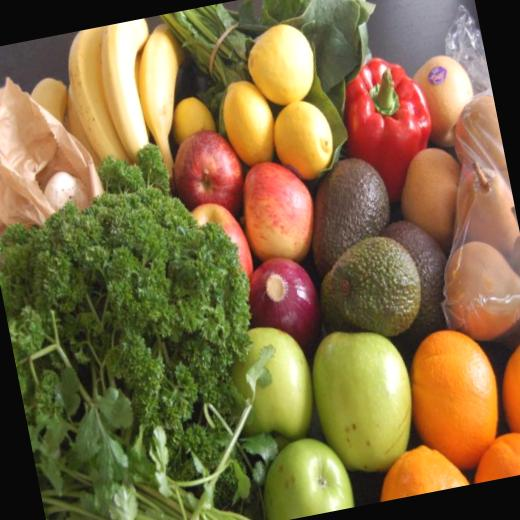Apple: (308, 313, 432, 484), (223, 316, 324, 446), (230, 152, 322, 272), (253, 430, 356, 520), (165, 124, 253, 228), (190, 198, 256, 291)
Grape: (397, 322, 511, 480), (372, 435, 470, 501), (493, 338, 520, 465), (467, 422, 520, 482)
